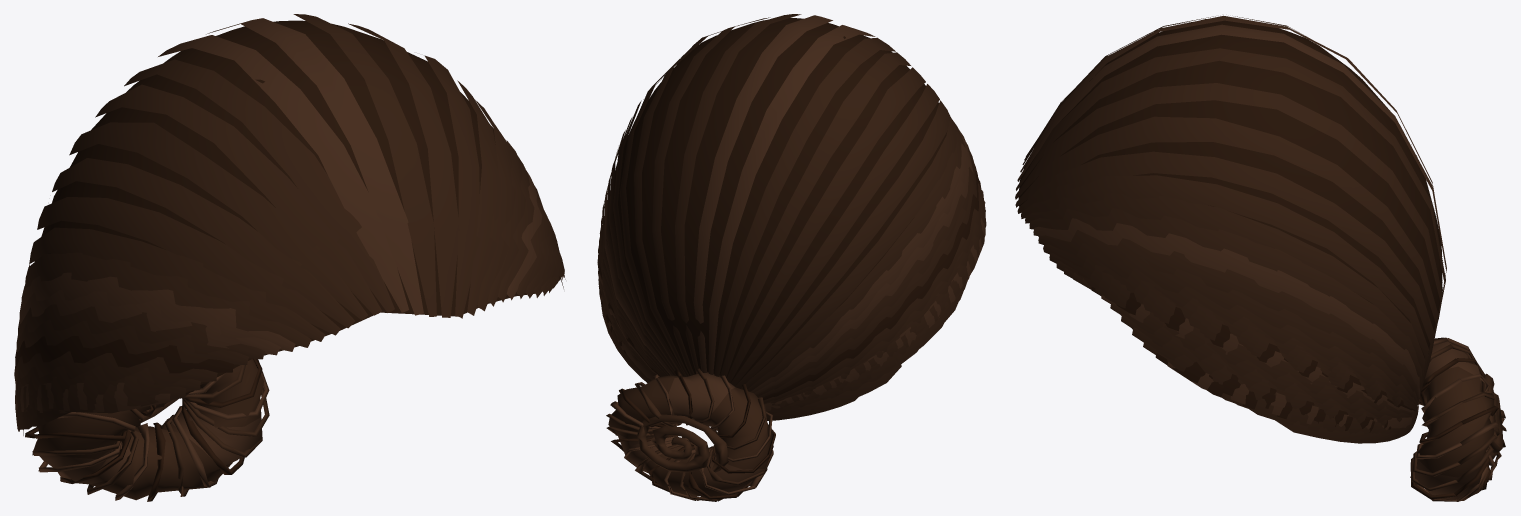
Rendered from swept-bun-fitted.glb.
The picture shows the model from 3 angles, left to right: view 1: azimuth 30°, elevation 25°; view 2: azimuth 150°, elevation 25°; view 3: azimuth 270°, elevation 25°; orthographic projection. The views are drawn at different scales.
Visible parts, largest first — view 1: FIT swept-bun / S02 swept scalp ribbons - far, FIT swept-bun / S02 swept foundation - far, FIT swept-bun / S02 sculpted low twist - far, FIT swept-bun / S02 twist fibre ridges - far; view 2: FIT swept-bun / S02 swept scalp ribbons - far, FIT swept-bun / S02 swept foundation - far, FIT swept-bun / S02 sculpted low twist - far, FIT swept-bun / S02 twist fibre ridges - far, FIT swept-bun / S02 wound centre - far; view 3: FIT swept-bun / S02 swept scalp ribbons - far, FIT swept-bun / S02 swept foundation - far, FIT swept-bun / S02 sculpted low twist - far, FIT swept-bun / S02 twist fibre ridges - far, FIT swept-bun / S02 wound centre - far.
Part boxes in pixels (<box>): FIT swept-bun / S02 swept scalp ribbons - far: <box>14,14,565,431</box>; FIT swept-bun / S02 swept foundation - far: <box>23,20,563,435</box>; FIT swept-bun / S02 sculpted low twist - far: <box>33,359,264,500</box>; FIT swept-bun / S02 twist fibre ridges - far: <box>25,358,269,501</box>; FIT swept-bun / S02 swept scalp ribbons - far: <box>597,14,986,421</box>; FIT swept-bun / S02 swept foundation - far: <box>605,18,947,384</box>; FIT swept-bun / S02 sculpted low twist - far: <box>608,372,773,498</box>; FIT swept-bun / S02 twist fibre ridges - far: <box>606,368,775,501</box>; FIT swept-bun / S02 wound centre - far: <box>637,414,728,472</box>; FIT swept-bun / S02 swept scalp ribbons - far: <box>1015,15,1446,443</box>; FIT swept-bun / S02 swept foundation - far: <box>1018,19,1442,358</box>; FIT swept-bun / S02 sculpted low twist - far: <box>1410,341,1504,501</box>; FIT swept-bun / S02 twist fibre ridges - far: <box>1410,337,1506,501</box>; FIT swept-bun / S02 wound centre - far: <box>1482,373,1502,454</box>.
Size of the model in its own units: 0.1617 by 0.1788 by 0.1742.
